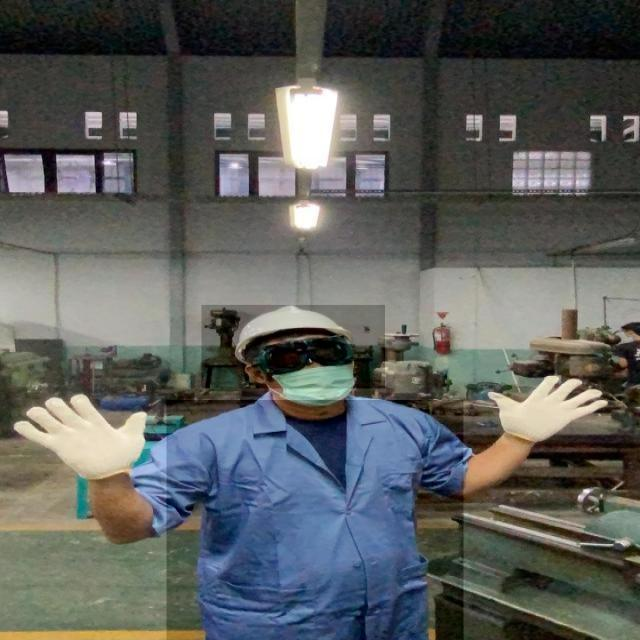Helmet: (166, 400, 464, 640), (201, 305, 385, 388)
